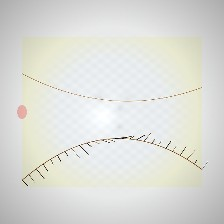pinguecula_lesion: (40, 84, 86, 121)
